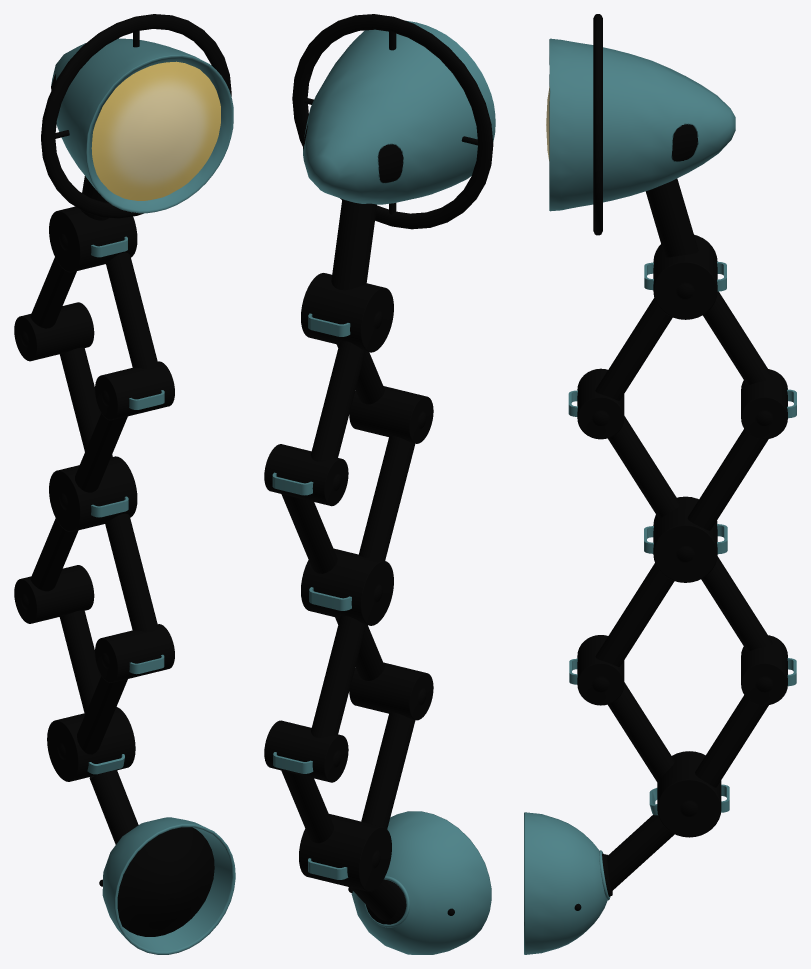
3 renders of one model, left to right at view 1: azimuth 30°, elevation 25°; view 2: azimuth 150°, elevation 25°; view 3: azimuth 270°, elevation 25°, orthographic. The views are drawn at different scales.
Visible parts, largest first — view 1: node_id36; view 2: node_id36; view 3: node_id36.
Boxes of the visible parts, box(x1,y1,x2,y2) form: node_id36: box(14, 14, 235, 954); node_id36: box(264, 14, 495, 954); node_id36: box(524, 14, 796, 954).
Bounding box in the file's own units: 0.1115 × 0.512 × 0.1372.
Materials: 1 (1 with a texture image).
